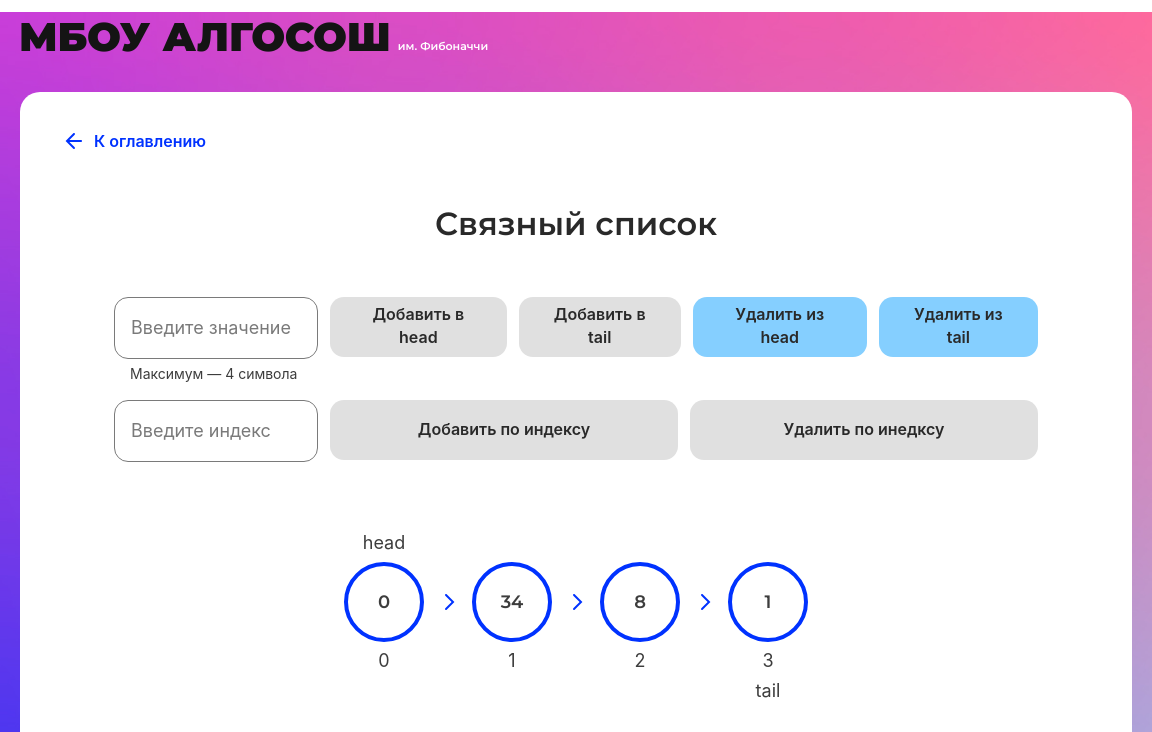
list tests › delete from tail
Check: the number of elements with test id "circle_state" is 4, box top-left (344, 562), bottom-right (424, 642); top-left (472, 562), bottom-right (552, 642); top-left (600, 562), bottom-right (680, 642); top-left (728, 562), bottom-right (808, 642)
Click the button with test id "list_delete_tail" at [959, 327], box top-left (879, 297), bottom-right (1038, 357)
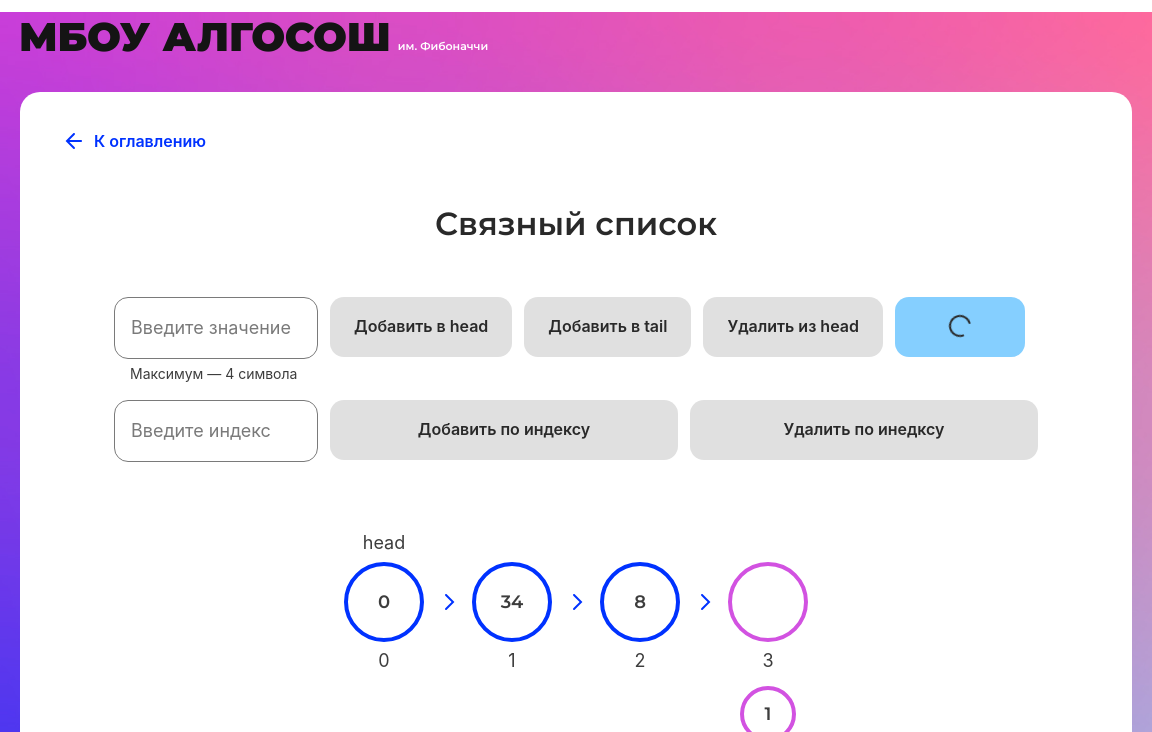
Check: the element with test id "circle_small" is shown, box top-left (740, 686), bottom-right (796, 731)
Check: the element with test id "circle_state" in the row of "34" has style "border-color"="rgb(210, 82, 225)", box top-left (728, 562), bottom-right (808, 642)
Wait "500"
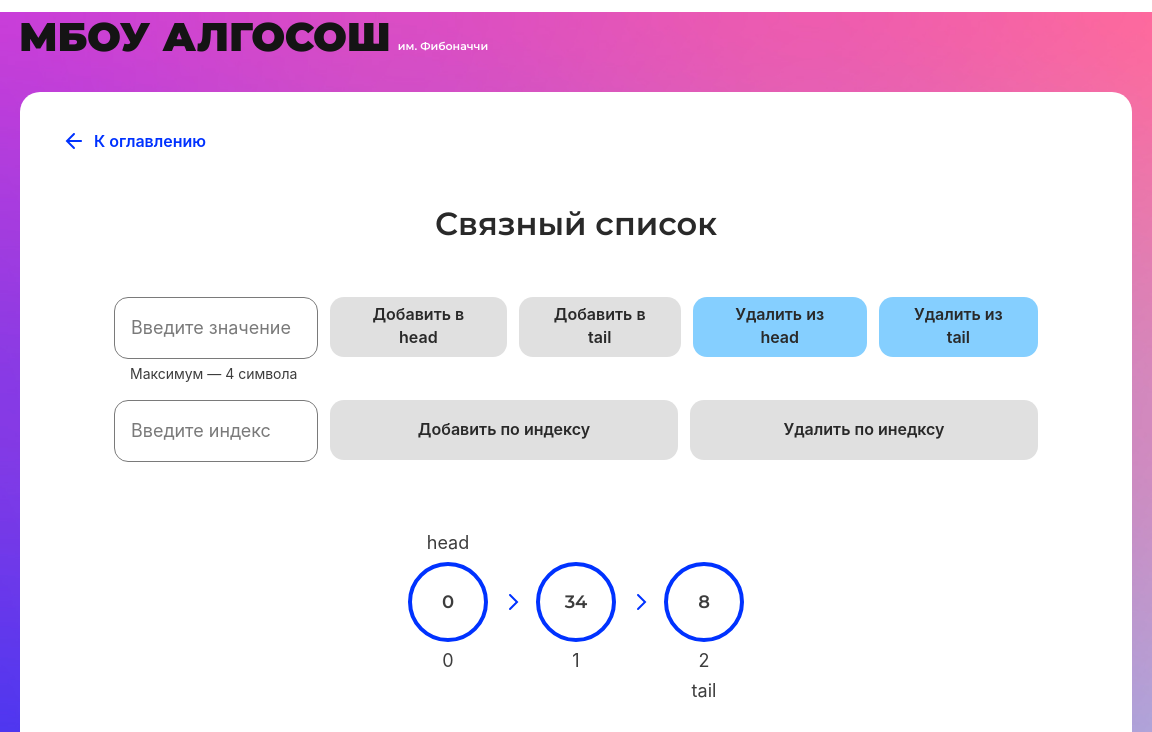
Check: the text "8" is shown, box top-left (698, 591), bottom-right (710, 613)
Check: the number of elements with test id "circle_state" is 3, box top-left (408, 562), bottom-right (488, 642); top-left (536, 562), bottom-right (616, 642); top-left (664, 562), bottom-right (744, 642)
